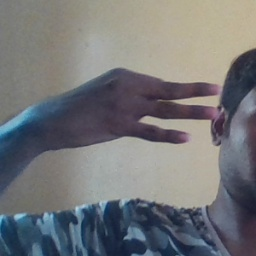K: (40, 65, 221, 146)
